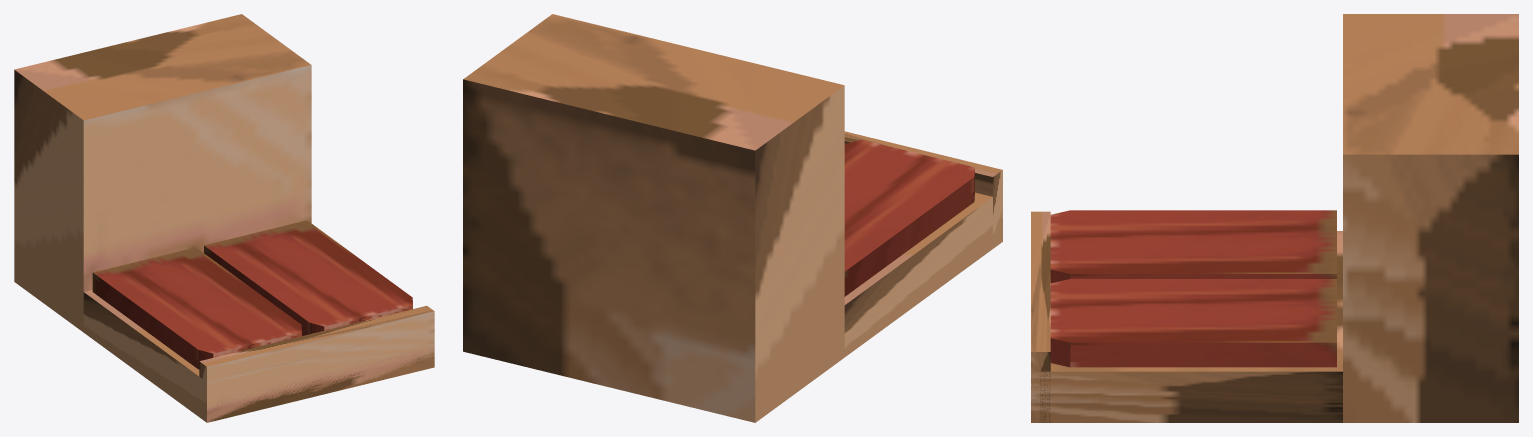
File: pz_spiffos_lounge_1_fidelity_r1.obj
The picture shows the model from 3 angles, left to right: view 1: azimuth 30°, elevation 25°; view 2: azimuth 150°, elevation 25°; view 3: azimuth 270°, elevation 25°; orthographic projection. The views are drawn at different scales.
Visible parts, largest first — view 1: pz_spiffos_lounge_1_fidelity_r1; view 2: pz_spiffos_lounge_1_fidelity_r1; view 3: pz_spiffos_lounge_1_fidelity_r1.
Part boxes in pixels (x1,y1,x2,y2): pz_spiffos_lounge_1_fidelity_r1: (14, 14, 434, 422); pz_spiffos_lounge_1_fidelity_r1: (463, 14, 1002, 422); pz_spiffos_lounge_1_fidelity_r1: (1031, 14, 1518, 422).
Bounding box in the file's own units: 0.85 × 0.757 × 1.25.
Materials: 1 (1 with a texture image).
